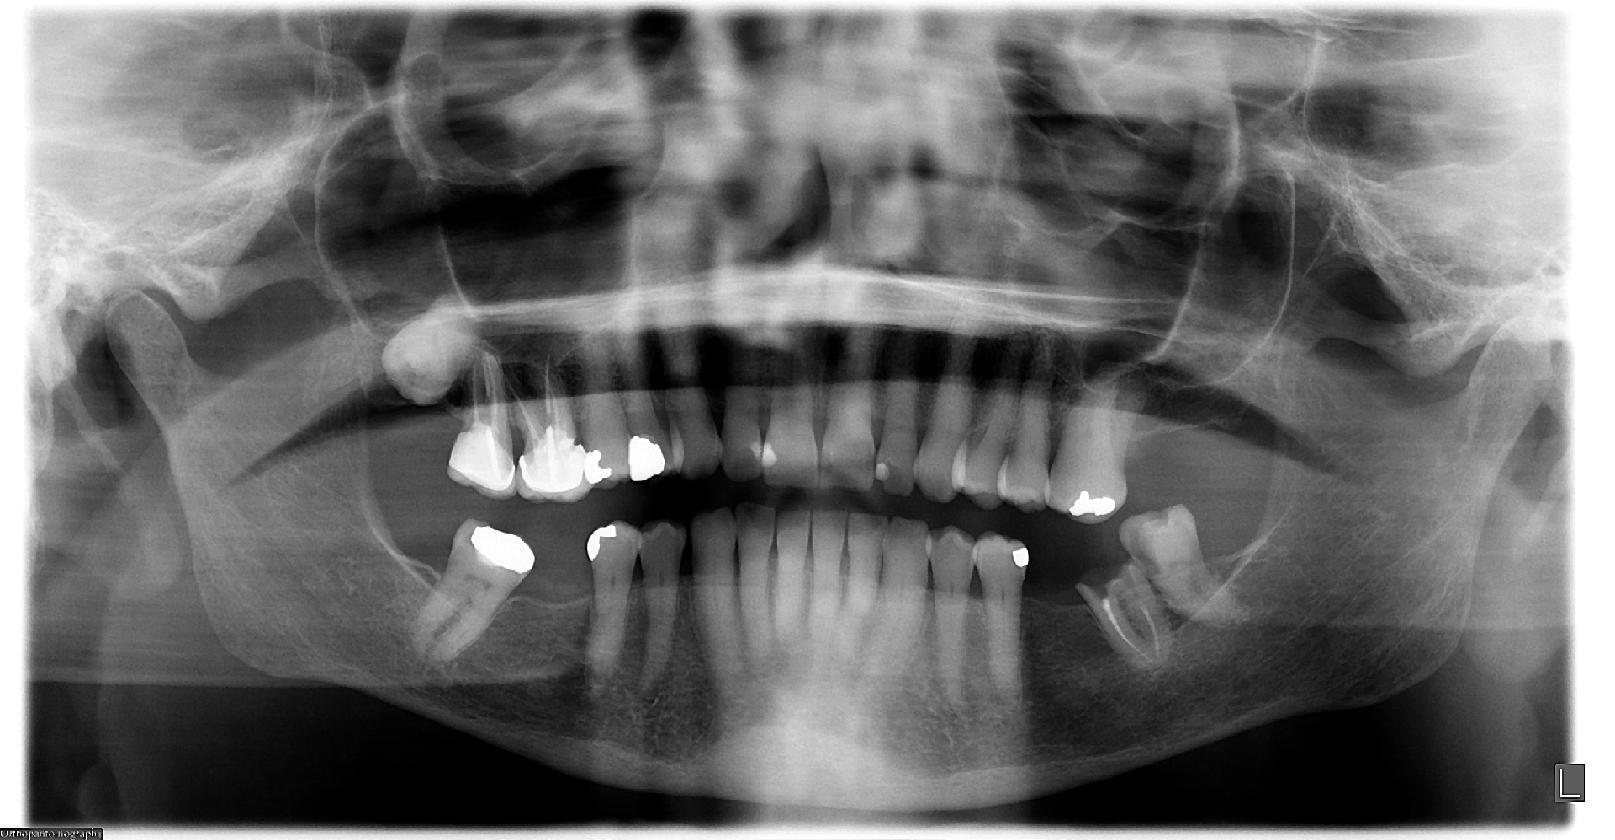Erupted: (1122, 500, 1249, 642)
